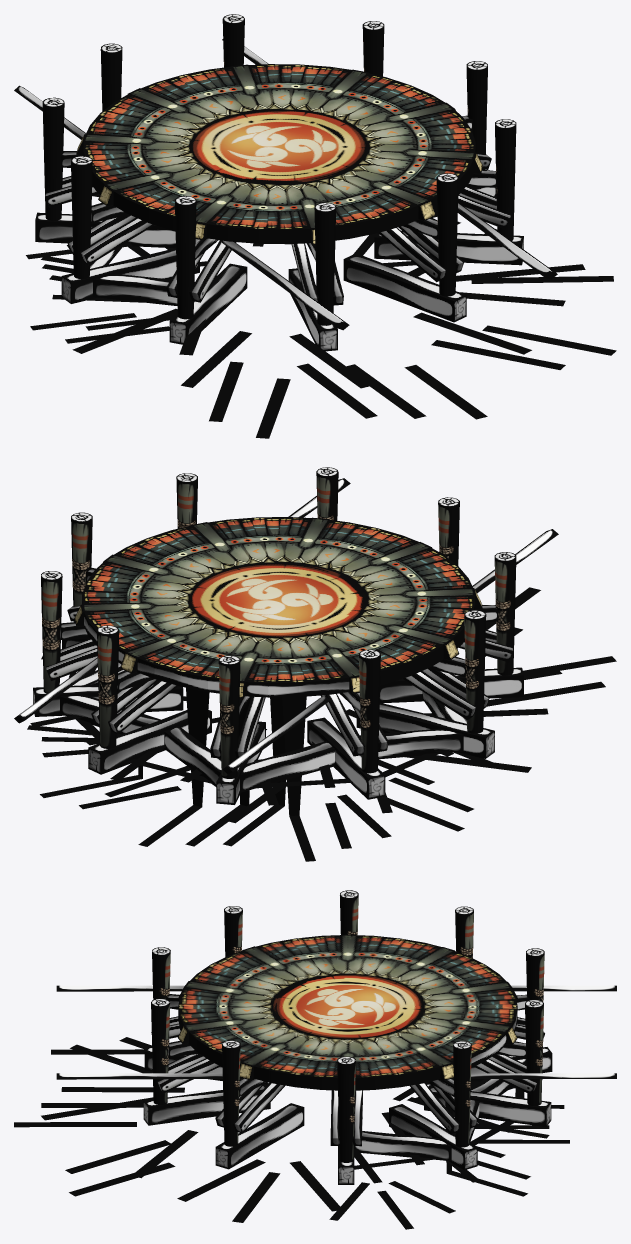
Rendered from dojo03.FBX.
The picture shows the model from 3 angles, top to bottom: view 1: azimuth 30°, elevation 25°; view 2: azimuth 150°, elevation 25°; view 3: azimuth 270°, elevation 25°; orthographic projection. The views are drawn at different scales.
Visible parts, largest first — view 1: Cylinder145; view 2: Cylinder145; view 3: Cylinder145.
Part boxes in pixels (x1,y1,x2,y2): Cylinder145: (14,14,616,438); Cylinder145: (14,467,616,861); Cylinder145: (14,890,616,1229).
Bounding box in the file's own units: 2192 × 832 × 2815.
